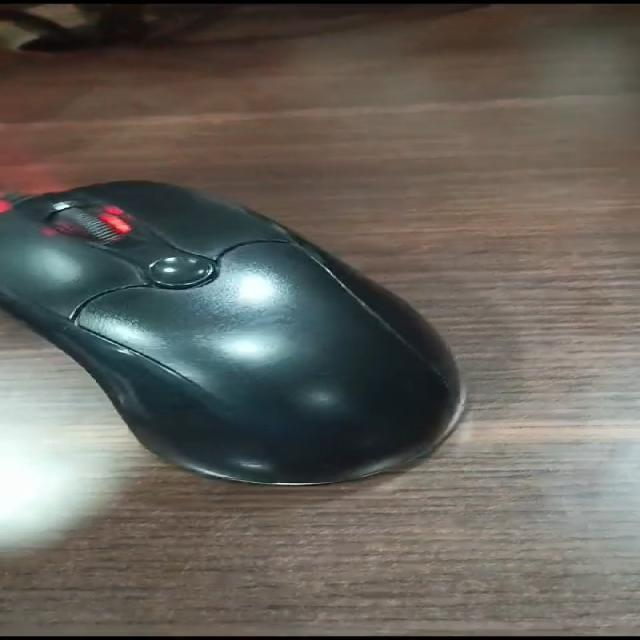Mouse: (0, 137, 528, 526)
